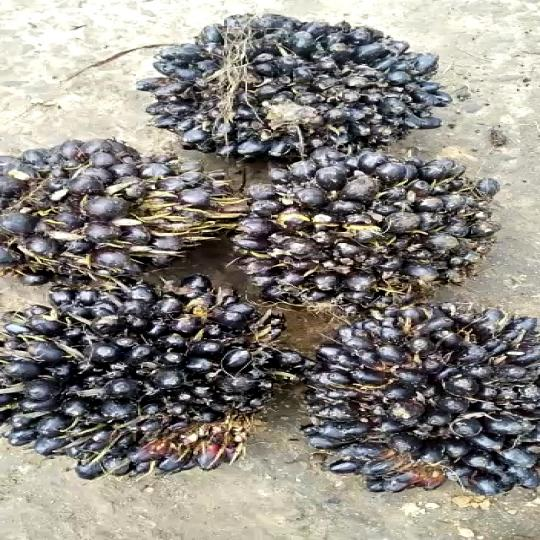mentah: (0, 291, 310, 491), (136, 9, 457, 164), (0, 130, 259, 314), (310, 311, 540, 515), (240, 148, 524, 301)
